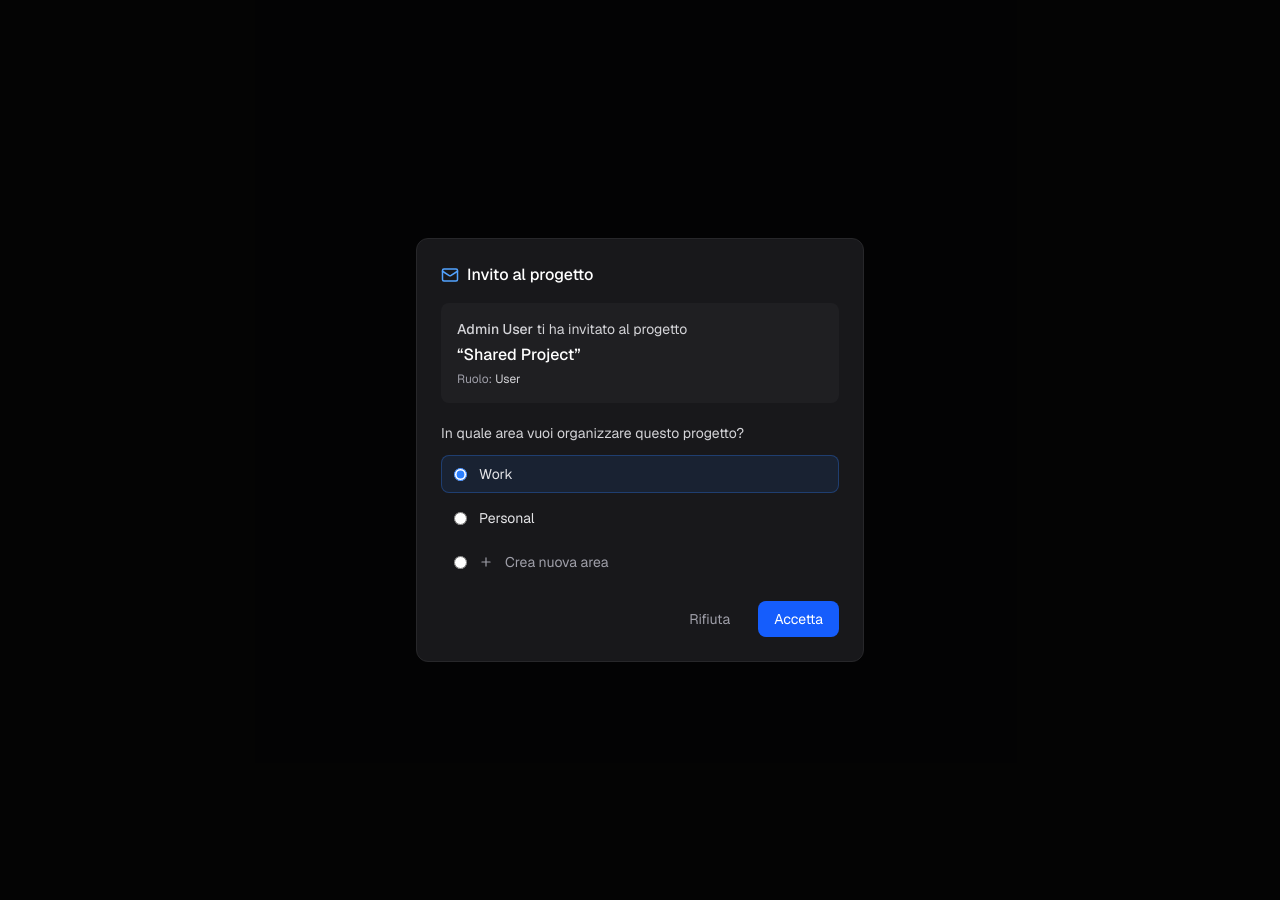
AcceptInvitationDialog › decline requires confirmation
The image size is (1280, 900).
Note: First click shows confirmation
Click the button "Rifiuta" at (710, 619), box [673,601,746,637]
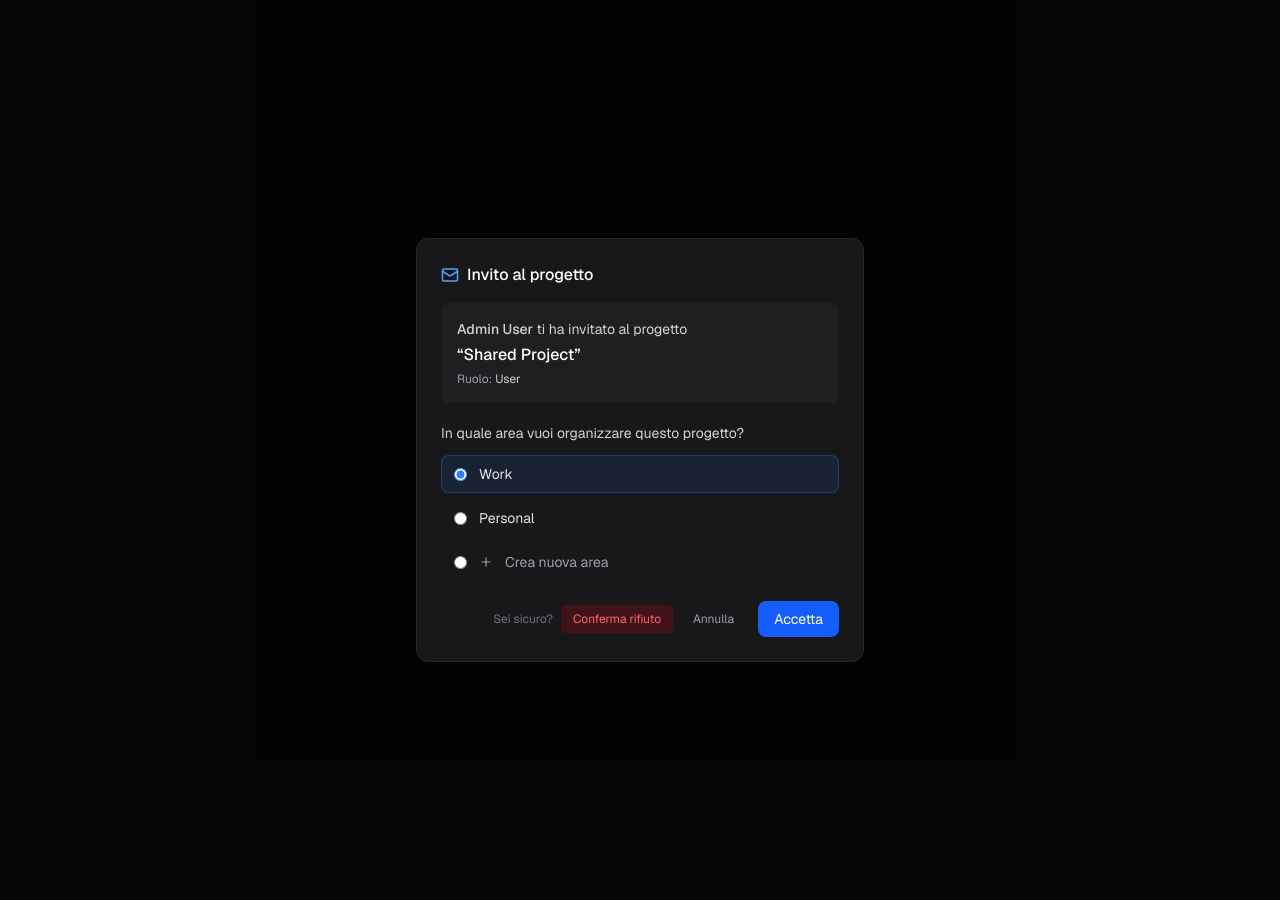
Result: the text "Sei sicuro?" is shown at [493,611,553,627]
Result: the button "Conferma rifiuto" is shown at [561,605,673,633]
